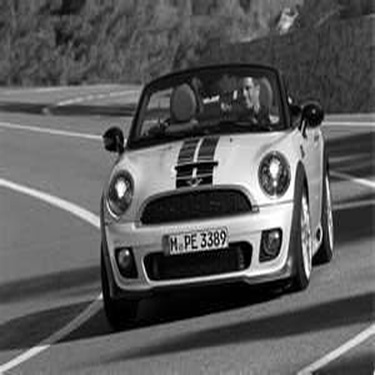car: (87, 52, 343, 335)
